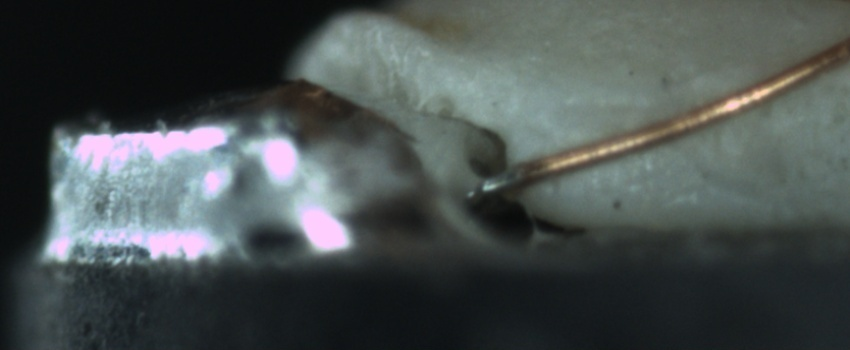DL: (551, 83, 669, 137)
TS: (469, 166, 523, 199)
